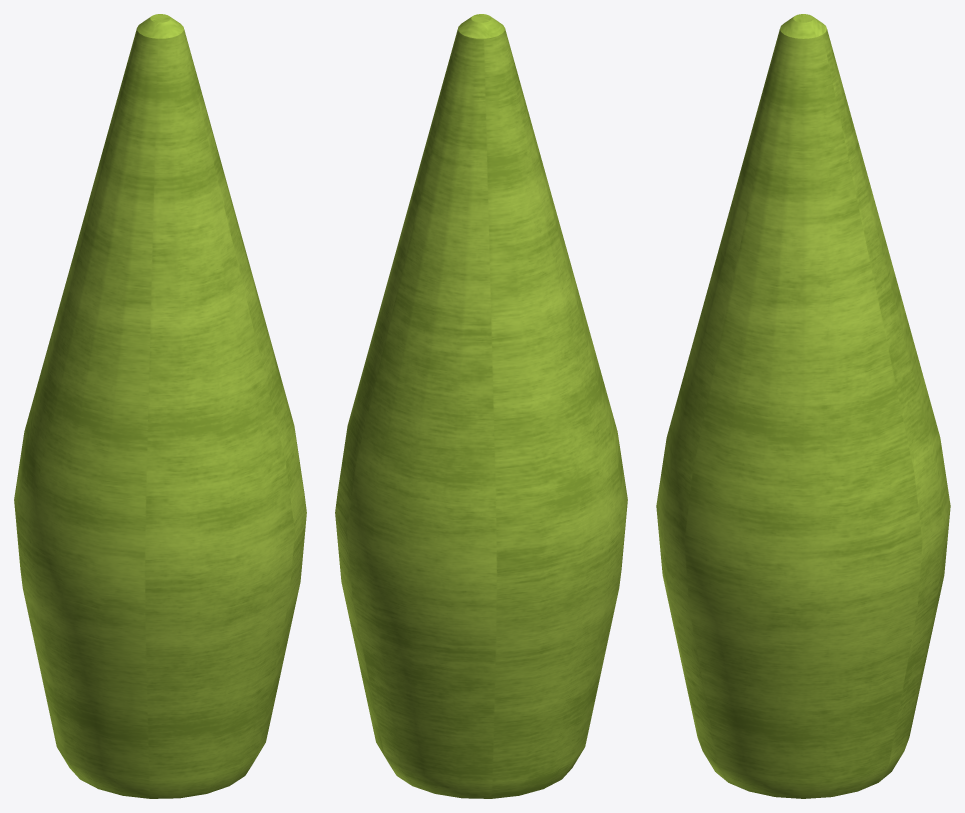
Rendered from tree_lightgreen.fbx.
3 views of the same model, side by side, from view 1: azimuth 30°, elevation 25°; view 2: azimuth 150°, elevation 25°; view 3: azimuth 270°, elevation 25° (orthographic).
Visible parts, largest first — view 1: tree; view 2: tree; view 3: tree.
Boxes of the visible parts, x1,y1,x2,y2 form: tree: [14, 14, 306, 798]; tree: [335, 14, 627, 798]; tree: [656, 14, 950, 798].
Size of the model in its own units: 0.6832 by 1.92 by 0.6832.
